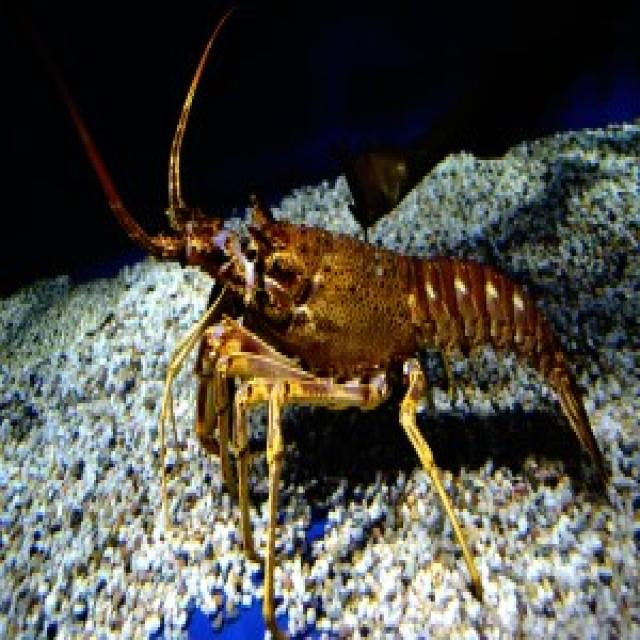lobsters: (74, 71, 626, 628)
